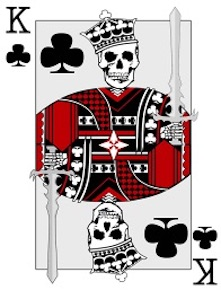KingOfClubs: (2, 1, 220, 290)
